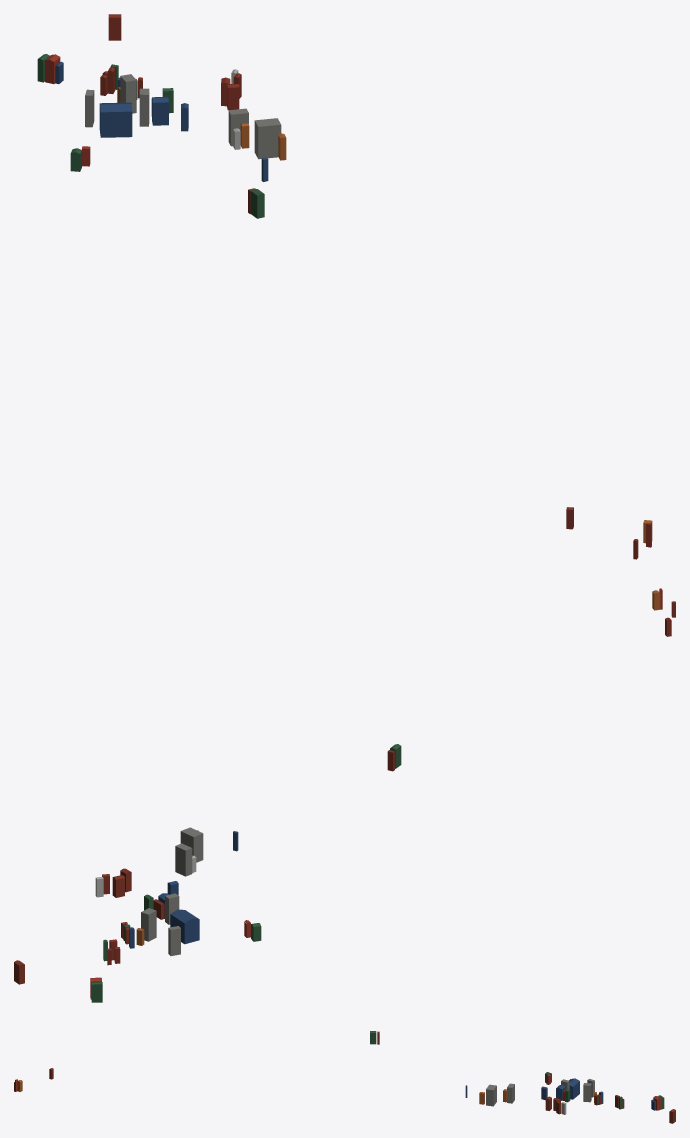
Rendered from near-15-27373-14877.70300bea.glb.
3 views of the same model, one above another, from view 1: azimuth 30°, elevation 25°; view 2: azimuth 150°, elevation 25°; view 3: azimuth 270°, elevation 25° (orthographic). The views are drawn at different scales.
Bounding box in the file's own units: 138 × 83.25 × 853.
